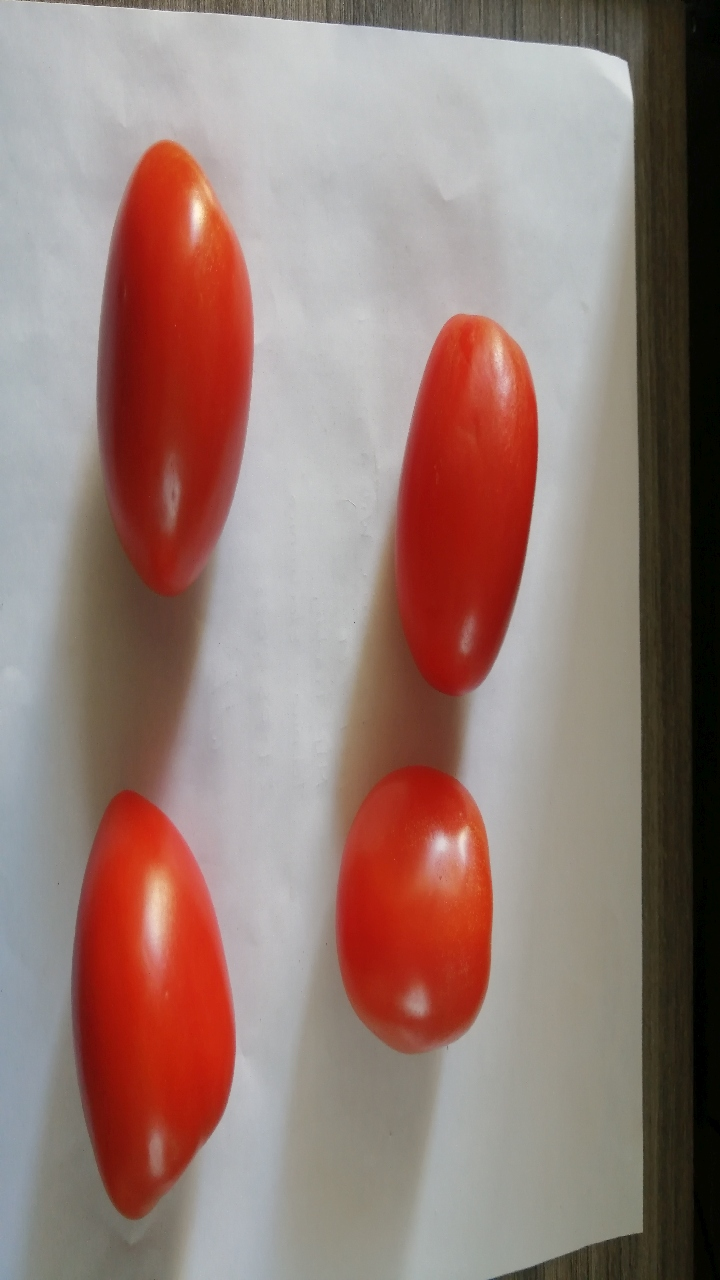tomateRojo: (34, 760, 268, 1239), (63, 117, 283, 606), (375, 280, 552, 711), (315, 746, 518, 1083)
